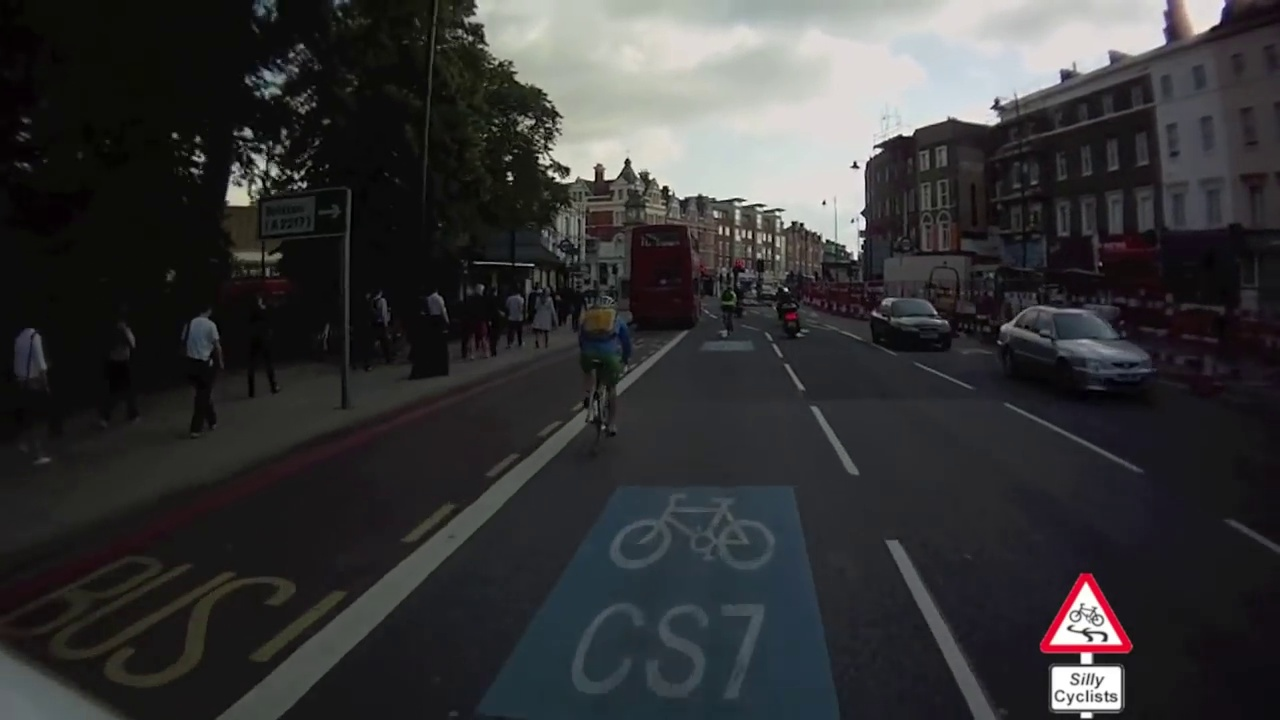cyclist_back: (573, 290, 627, 450), (771, 273, 807, 353), (716, 277, 738, 346)
